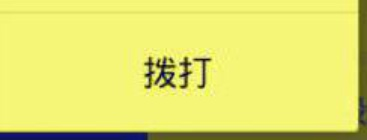Button: (1, 1, 366, 139)
